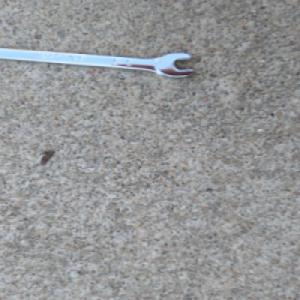Wrench: (0, 45, 196, 79)
